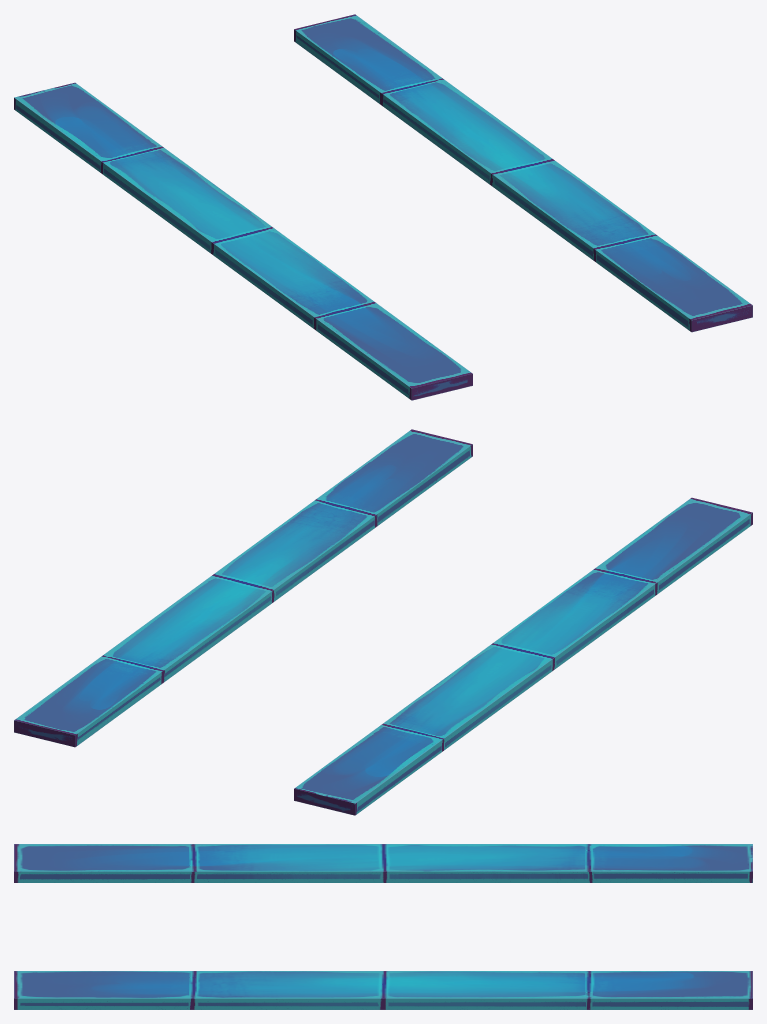
Rendered from SUP_ARCH_sidewalkStraight.fbx.
The picture shows the model from 3 angles, top to bottom: view 1: azimuth 30°, elevation 25°; view 2: azimuth 150°, elevation 25°; view 3: azimuth 270°, elevation 25°; orthographic projection. The views are drawn at different scales.
Visible parts, largest first — view 1: m_superposed_sidewalkStraight; view 2: m_superposed_sidewalkStraight; view 3: m_superposed_sidewalkStraight.
Part boxes in pixels (bbox=[...]): m_superposed_sidewalkStraight: bbox=[14, 14, 752, 400]; m_superposed_sidewalkStraight: bbox=[14, 429, 752, 815]; m_superposed_sidewalkStraight: bbox=[14, 844, 752, 1009].
Size of the model in its own units: 1114 by 37.69 by 2248.
Materials: 1 (1 with a texture image).
